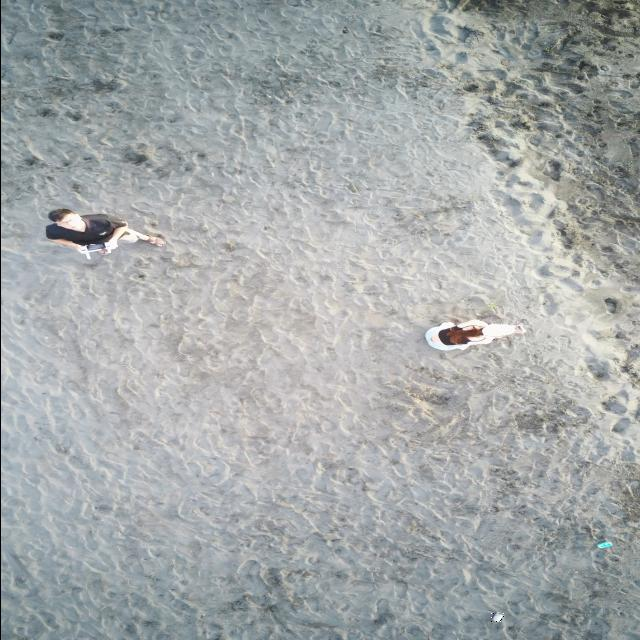Garbage: (489, 612, 503, 622), (597, 540, 612, 547)
